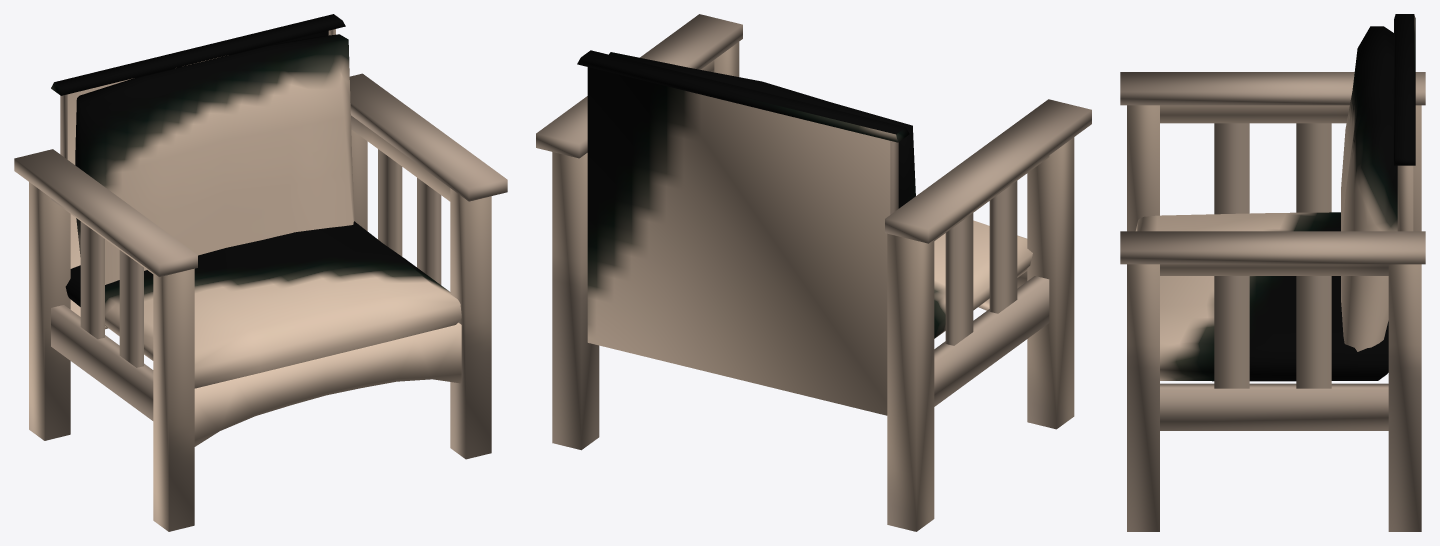
Rendered from Chair_1.fbx.
The picture shows the model from 3 angles, left to right: view 1: azimuth 30°, elevation 25°; view 2: azimuth 150°, elevation 25°; view 3: azimuth 270°, elevation 25°; orthographic projection. The views are drawn at different scales.
Parts seen in each view (by area): view 1: Cube; view 2: Cube; view 3: Cube.
Part boxes in pixels (bbox=[...]): Cube: bbox=[14, 14, 507, 531]; Cube: bbox=[536, 14, 1091, 531]; Cube: bbox=[1120, 14, 1425, 531].
Size of the model in its own units: 377 by 356 by 271.
